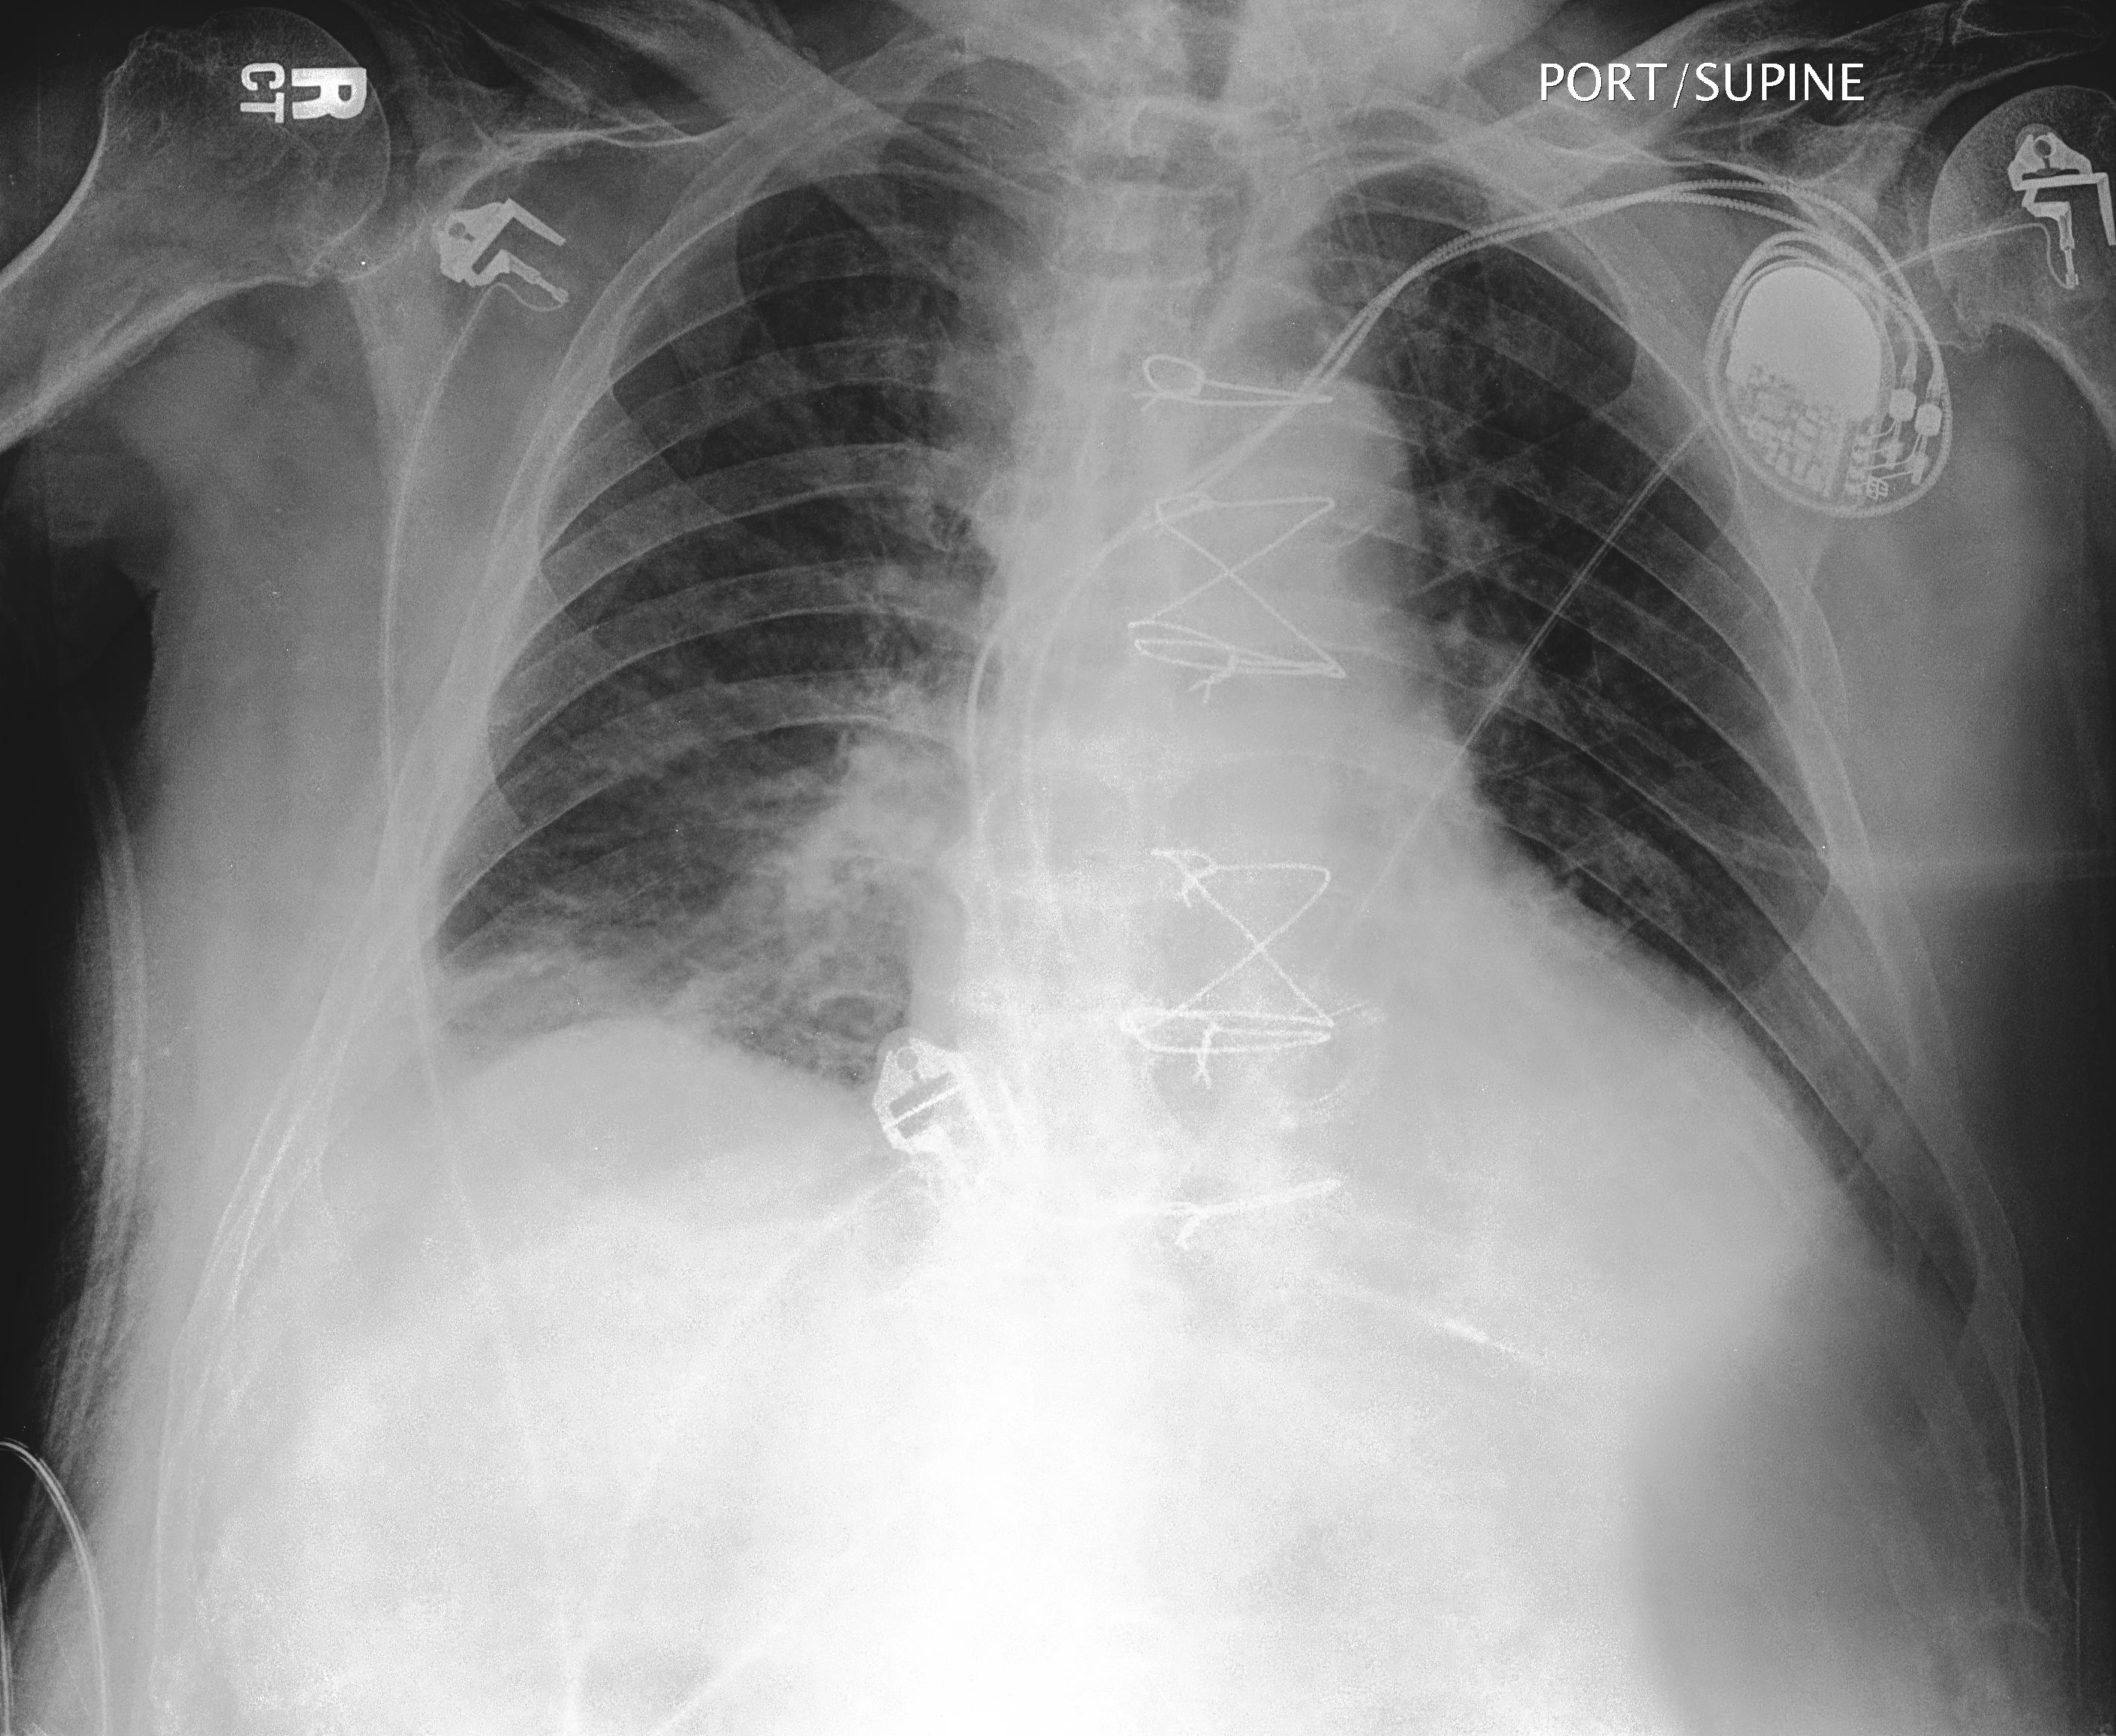Pleural Effusion: (278, 980, 786, 1267)
